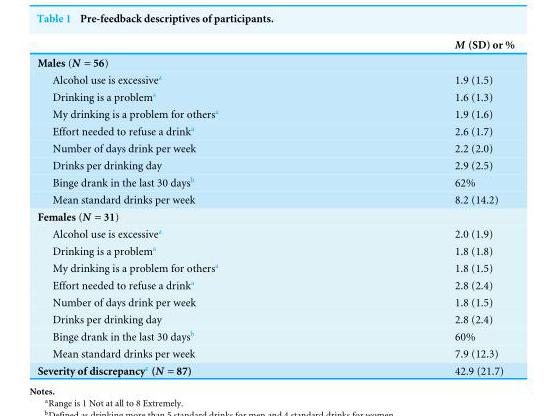table: (36, 36, 514, 376)
table column: (36, 36, 335, 376), (335, 36, 514, 376)
table column header: (36, 36, 514, 52)
table projected row header: (36, 52, 514, 70), (36, 207, 514, 224)
table row: (36, 52, 514, 70), (36, 172, 514, 190), (36, 326, 514, 344), (36, 70, 514, 87), (36, 87, 514, 104), (36, 104, 514, 121), (36, 121, 514, 138), (36, 138, 514, 155), (36, 155, 514, 172), (36, 190, 514, 207), (36, 207, 514, 224), (36, 224, 514, 241), (36, 241, 514, 258), (36, 258, 514, 275), (36, 275, 514, 292), (36, 292, 514, 309), (36, 309, 514, 326), (36, 36, 514, 52), (36, 344, 514, 360), (36, 360, 514, 376)
